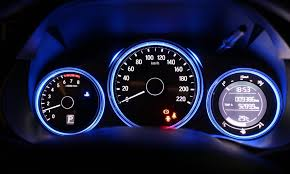Digital_Meter: (224, 95, 260, 110)
